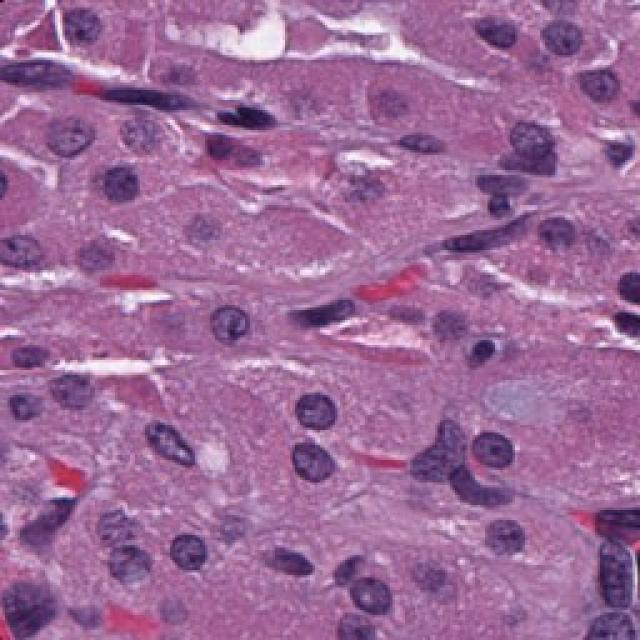abnormal: (108, 395, 221, 491), (182, 264, 266, 370), (91, 518, 186, 604), (456, 410, 537, 510), (264, 426, 354, 511), (2, 557, 87, 640), (106, 107, 193, 185), (487, 97, 561, 179), (281, 362, 347, 445), (524, 0, 598, 69), (0, 210, 55, 302), (352, 554, 413, 636), (48, 93, 104, 176)
